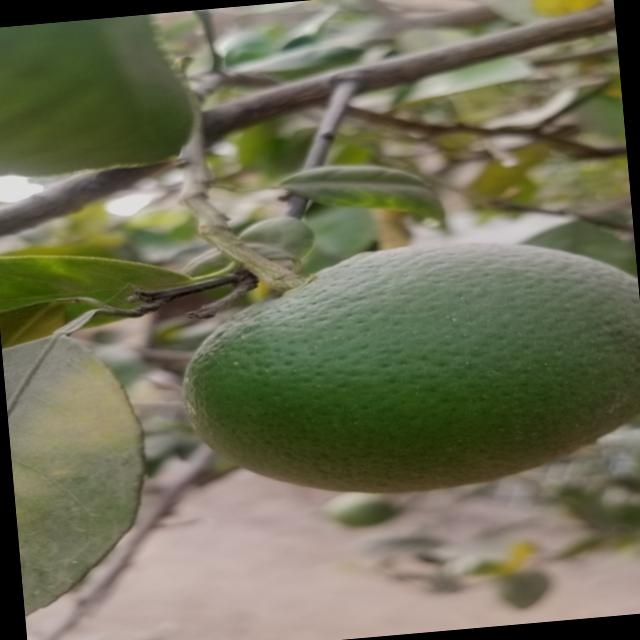agrume: (168, 231, 640, 507)
